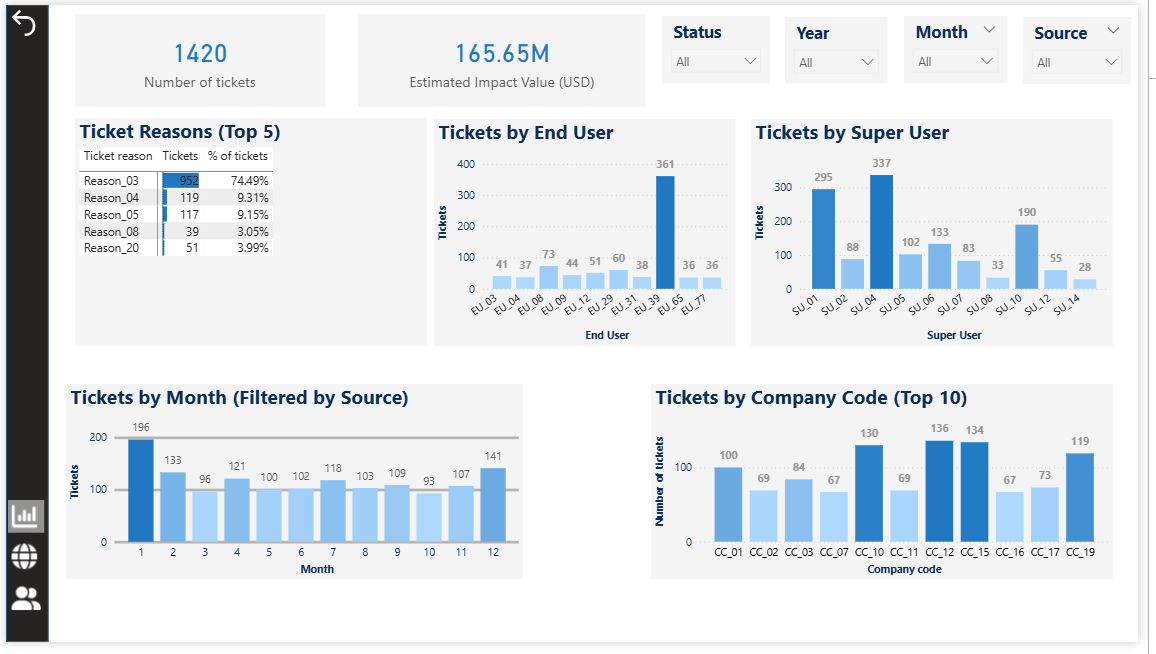

This screenshot's page, from the dashboard's own definition file:
{"tool":"powerbi","page":{"name":"Summary","canvas":[1280,720],"ordinal":0},"visuals":[{"type":"clusteredColumnChart","title":"Tickets by Month (Filtered by Source)","fields":{"Y":["Measures_table.Number of tickets"],"Category":["Ticket log.Month"]},"box":[68.3,428.4,517.1,221.3],"z":0},{"type":"actionButton","box":[2.8,559.2,41.3,37.1],"z":0,"group":"g1"},{"type":"slicer","fields":{"Values":["Ticket log.Year"]},"box":[881.2,13.3,116.3,75.5],"z":1000},{"type":"actionButton","box":[2.8,604.1,41.3,37.1],"z":1000,"group":"g1"},{"type":"shape","box":[0,0,48.1,720.4],"z":2000},{"type":"actionButton","box":[3.3,649.9,41.3,42.2],"z":2000,"group":"g1"},{"type":"card","fields":{"Values":["Sum(Ticket log.Absolute value in USD (estimated))"]},"box":[397.8,10.2,325.4,105.1],"z":3000},{"type":"card","fields":{"Values":["Measures_table.Number of tickets_"]},"box":[78.5,10.2,282.5,105.1],"z":4000},{"type":"pivotTable","title":"Ticket Reasons (Top 5)","fields":{"Values":["Measures_table.Number of tickets","Measures_table.Pct of Tickets (In Current Filters)"],"Rows":["Ticket log.Ticket reason"]},"box":[78.2,128.1,398.4,257.3],"z":5000},{"type":"slicer","fields":{"Values":["Ticket log.STATUS "]},"box":[741.2,11.9,122.5,76],"z":6000},{"type":"clusteredColumnChart","title":"Tickets by Company Code (Top 10)","fields":{"Category":["Ticket log.Company code"],"Y":["Measures_table.Number of tickets"]},"box":[729.2,428.4,522.2,221.3],"z":7000},{"type":"clusteredColumnChart","title":"Tickets by Super User","fields":{"Y":["Measures_table.Number of tickets"],"Category":["Ticket log.Super User"]},"box":[842.5,128.5,409,257],"z":8000},{"type":"slicer","fields":{"Values":["Ticket log.Month"]},"box":[1015.8,11.9,116.5,76],"z":9000},{"type":"actionButton","box":[0,0,49,40.2],"z":10000},{"type":"group","id":"g1","title":"Navigation buttons","box":[2.8,559.2,42.2,133.1],"z":11000},{"type":"slicer","fields":{"Values":["Ticket log.Ticket type"]},"box":[1150.5,13.3,122.4,76.5],"z":12000},{"type":"clusteredColumnChart","title":"Tickets by End User","fields":{"Y":["Measures_table.Number of tickets"],"Category":["Ticket log.End User"]},"box":[483.4,128.5,340.7,257],"z":13000}]}

Visuals, with their boxes on the page's 1280x720 design canvas (x1, y1, x2, y2). These are canvas units, not pixel positions in the 1156x654 screenshot, which may show the page scaled, cropped or inside an application window:
"Tickets by Month (Filtered by Source)" clusteredColumnChart: [68,428,585,650]
actionButton: [3,559,44,596]
slicer - Ticket log.Year: [881,13,998,89]
actionButton: [3,604,44,641]
shape: [0,0,48,720]
actionButton: [3,650,45,692]
card - Sum(Ticket log.Absolute value in USD (estimated)): [398,10,723,115]
card - Measures_table.Number of tickets_: [78,10,361,115]
"Ticket Reasons (Top 5)" pivotTable: [78,128,477,385]
slicer - Ticket log.STATUS : [741,12,864,88]
"Tickets by Company Code (Top 10)" clusteredColumnChart: [729,428,1251,650]
"Tickets by Super User" clusteredColumnChart: [842,128,1252,386]
slicer - Ticket log.Month: [1016,12,1132,88]
actionButton: [0,0,49,40]
"Navigation buttons" group: [3,559,45,692]
slicer - Ticket log.Ticket type: [1150,13,1273,90]
"Tickets by End User" clusteredColumnChart: [483,128,824,386]
